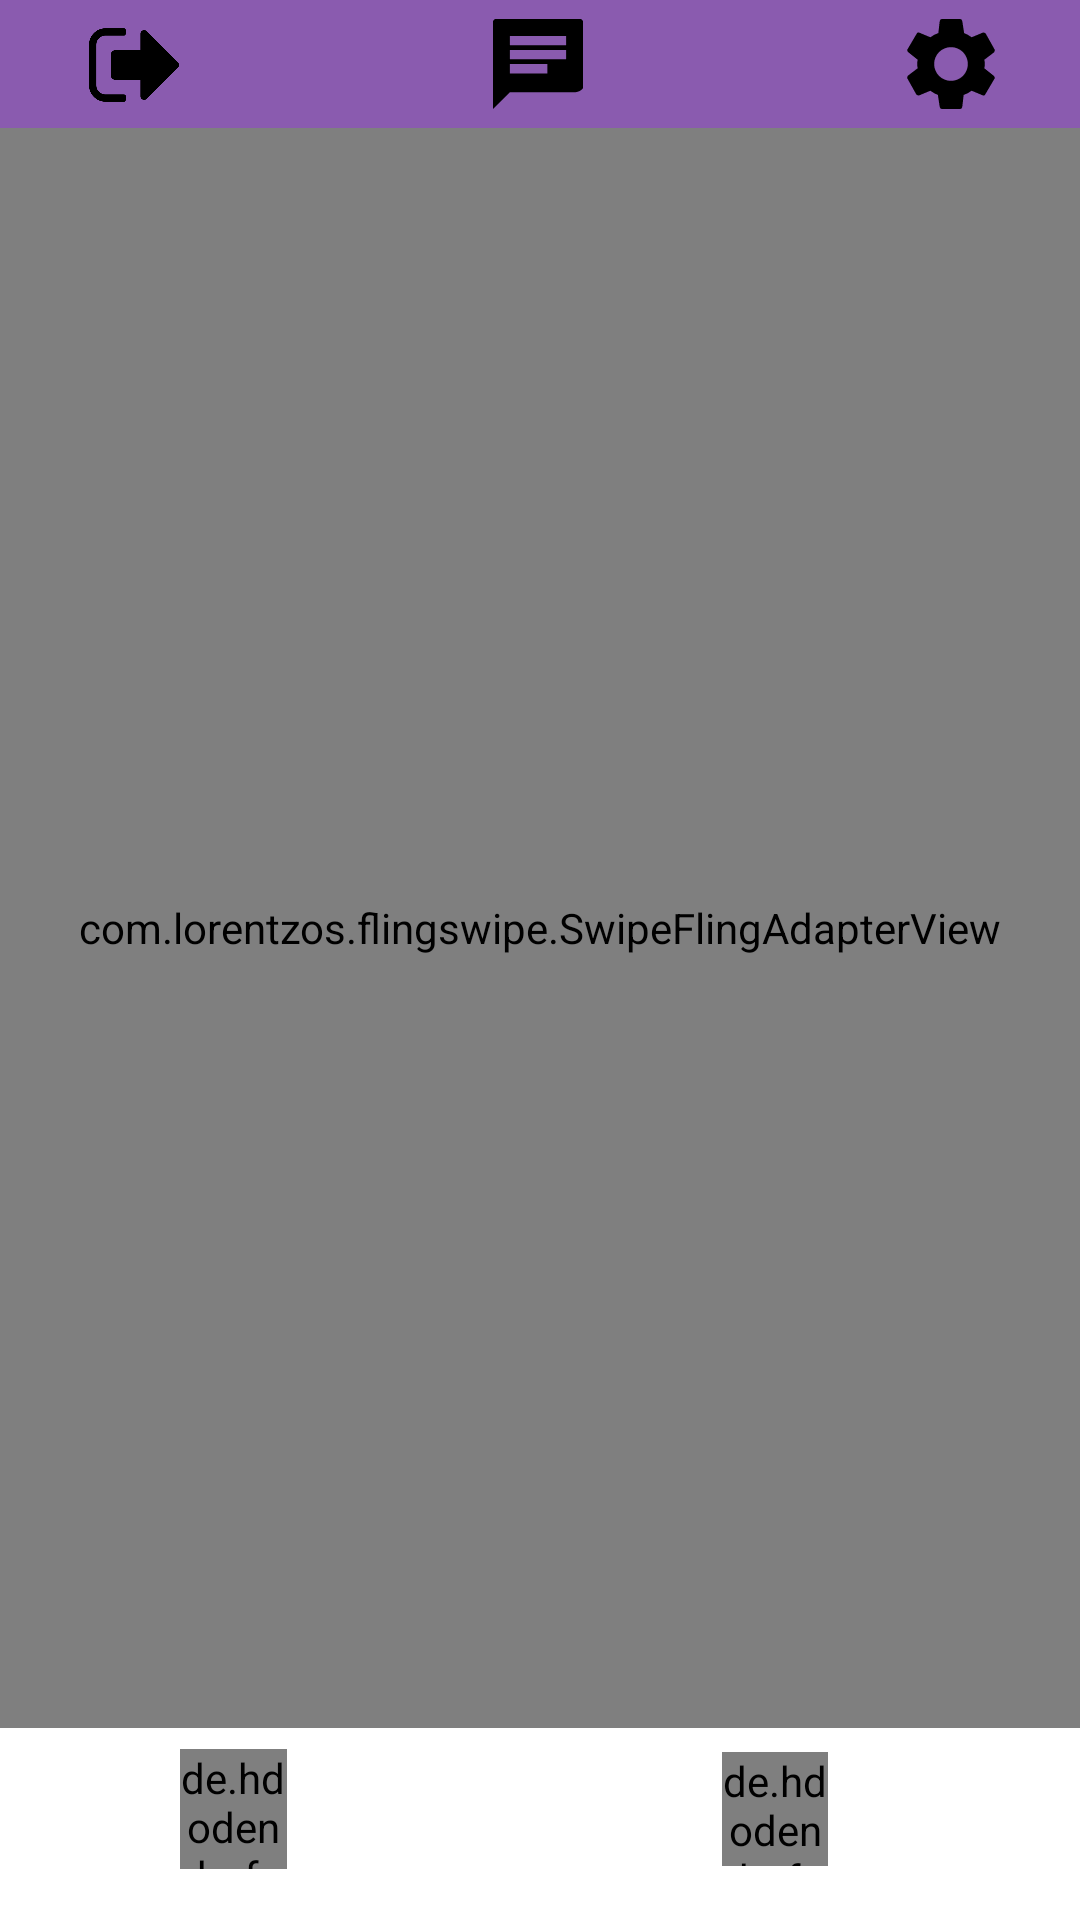

Locate icon controls on the screen. Image size 1080 × 1920, boxes as (x1, y1, x2, y2).
settings: (907, 19, 995, 109)
sign out: (89, 28, 179, 102)
